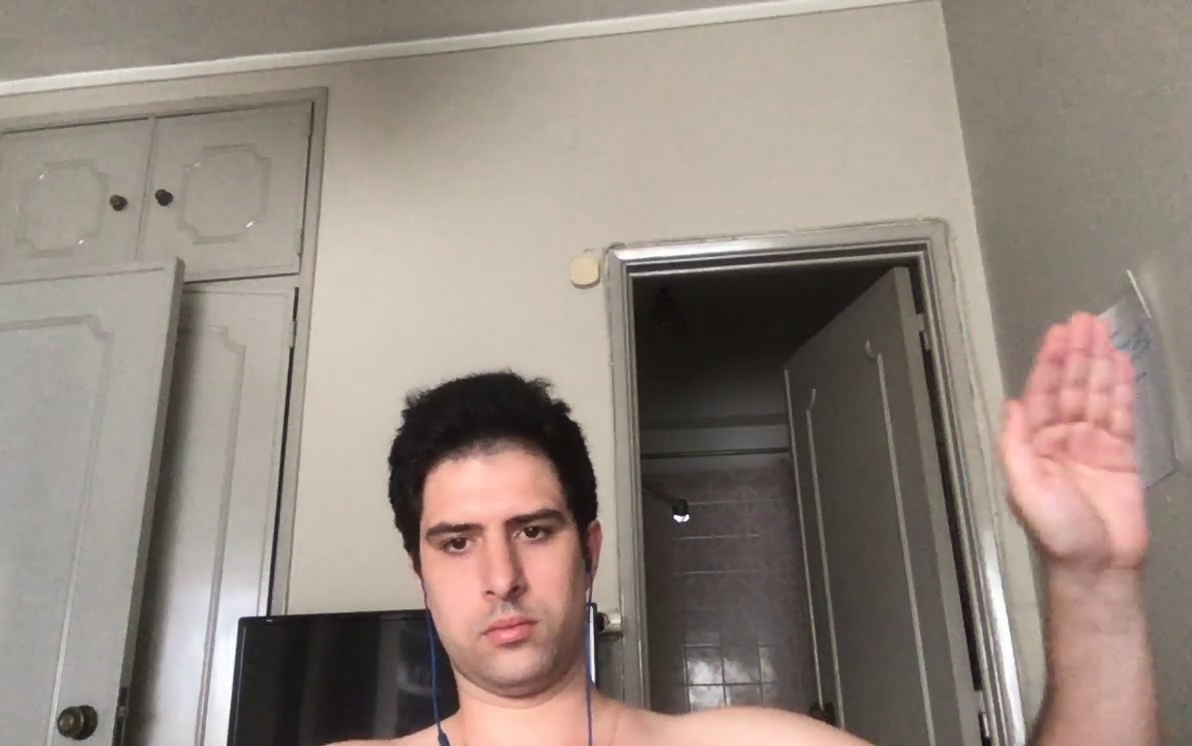b: (993, 299, 1156, 567)
